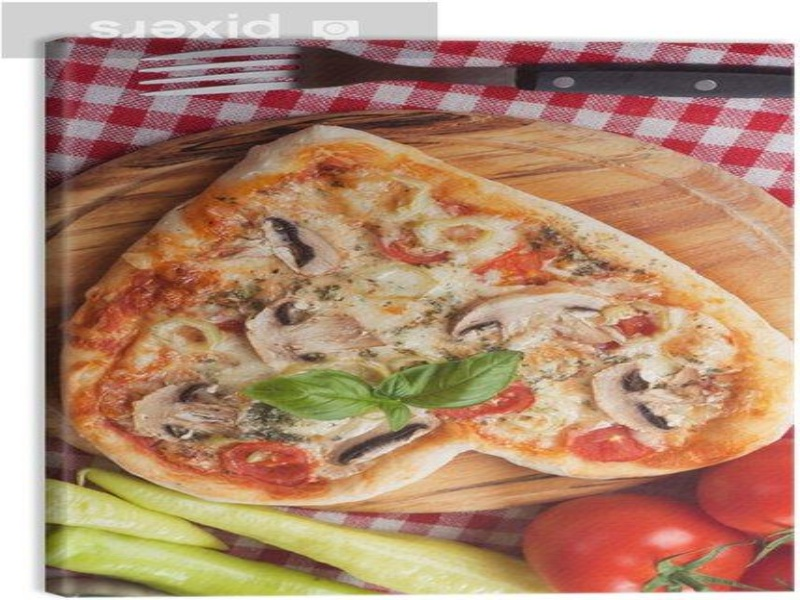champignon: (243, 292, 396, 378), (440, 283, 619, 354), (583, 356, 698, 439), (122, 379, 245, 451), (316, 406, 452, 468), (249, 212, 351, 280)
